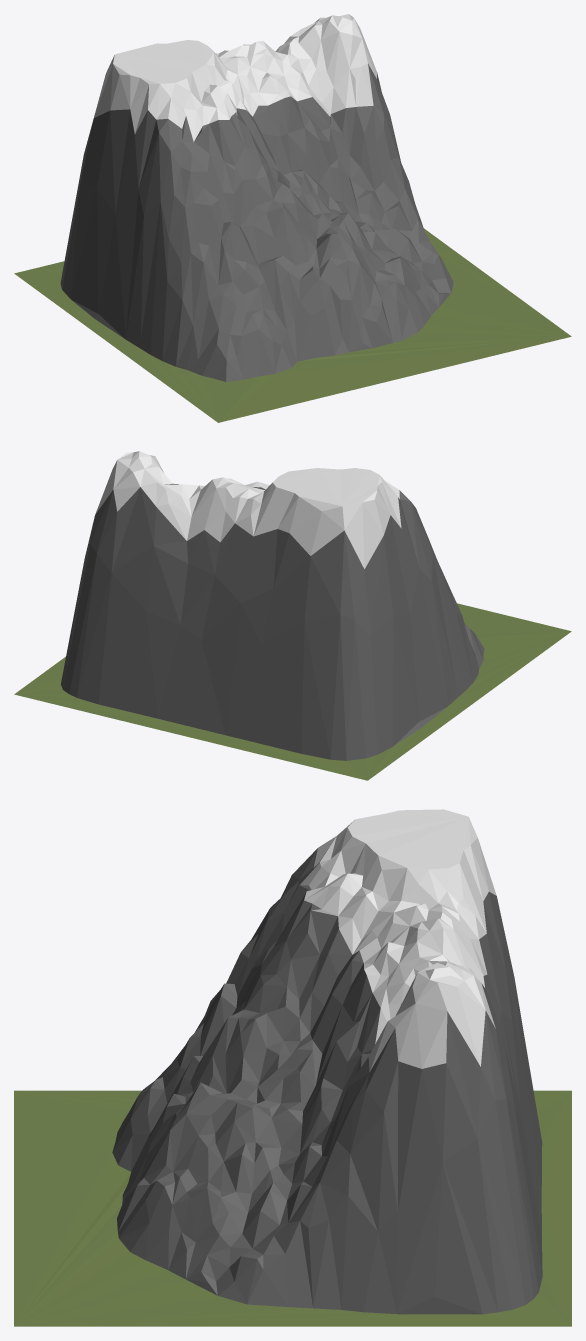
File: Terrain_08.fbx
The picture shows the model from 3 angles, top to bottom: view 1: azimuth 30°, elevation 25°; view 2: azimuth 150°, elevation 25°; view 3: azimuth 270°, elevation 25°; orthographic projection. The views are drawn at different scales.
Visible parts, largest first — view 1: Terrain_08; view 2: Terrain_08; view 3: Terrain_08.
Part boxes in pixels (x1,y1,x2,y2): Terrain_08: (14,14,571,422); Terrain_08: (14,451,571,780); Terrain_08: (14,809,571,1326).
Size of the model in its own units: 20000 by 12501 by 20000.
